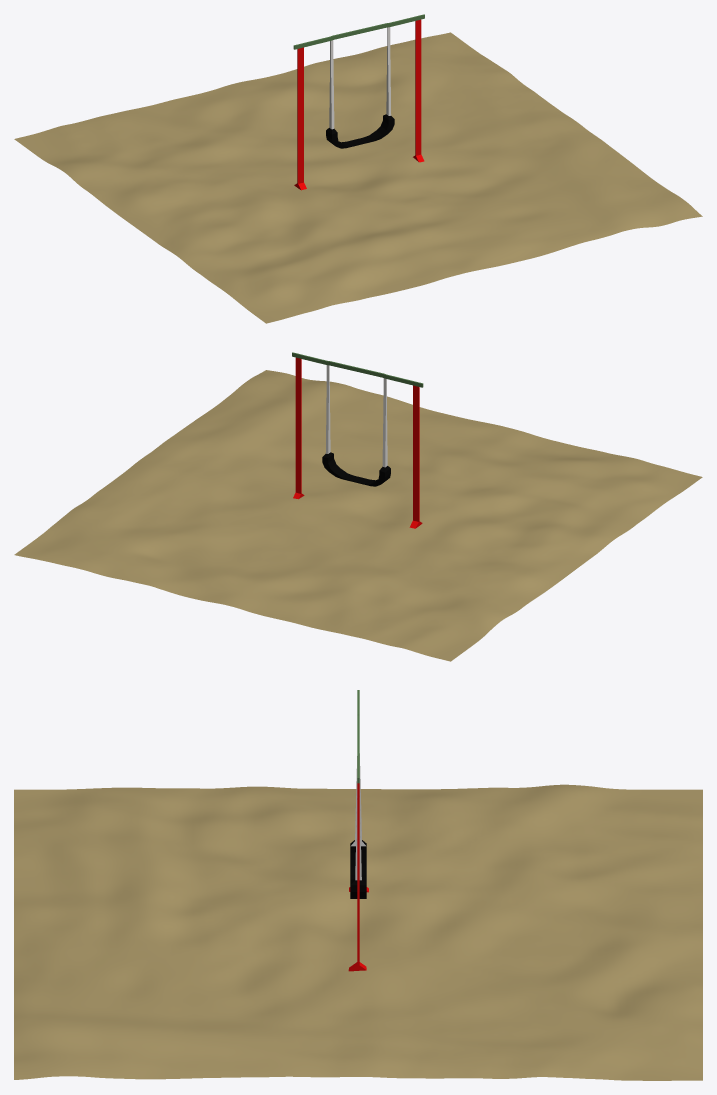
File: SwingSetSand.fbx
3 renders of one model, top to bottom at view 1: azimuth 30°, elevation 25°; view 2: azimuth 150°, elevation 25°; view 3: azimuth 270°, elevation 25°, orthographic. The views are drawn at different scales.
Visible parts, largest first — view 1: SwingSetInSand; view 2: SwingSetInSand; view 3: SwingSetInSand.
Part boxes in pixels (x1,y1,x2,y2): SwingSetInSand: [14, 14, 702, 323]; SwingSetInSand: [14, 352, 702, 661]; SwingSetInSand: [14, 690, 702, 1080].
Bounding box in the file's own units: 381 × 124 × 381.
